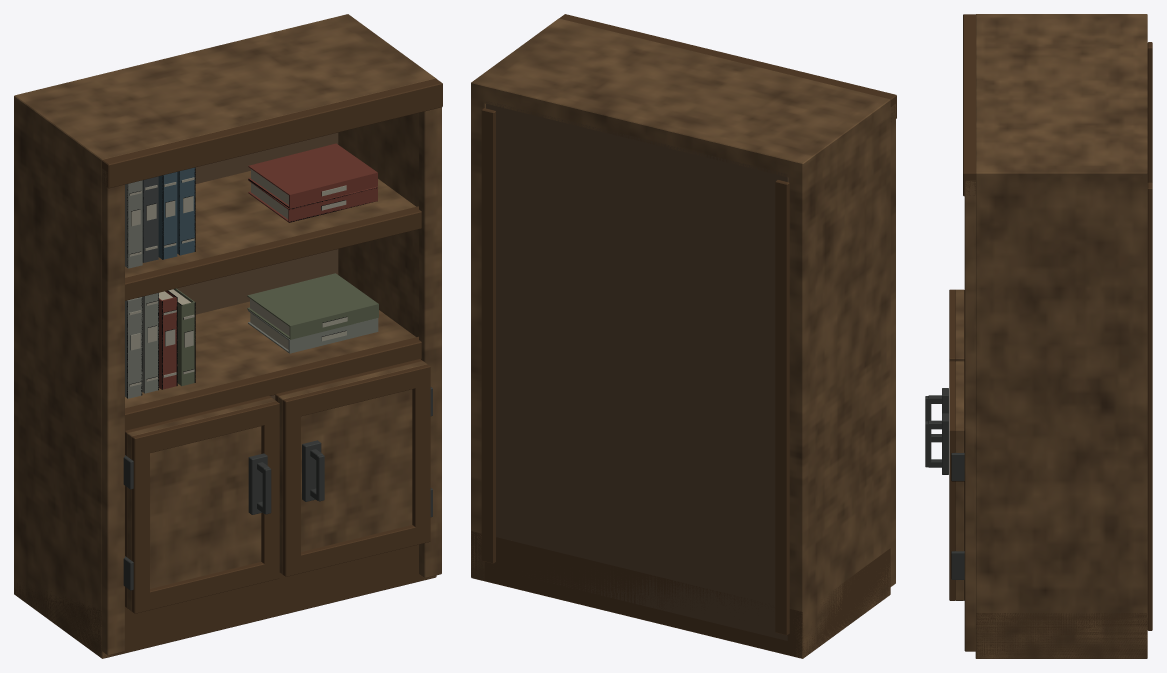
File: Cabinet_Short.glb
3 views of the same model, side by side, from view 1: azimuth 30°, elevation 25°; view 2: azimuth 150°, elevation 25°; view 3: azimuth 270°, elevation 25° (orthographic). The views are drawn at different scales.
Visible parts, largest first — view 1: Cabinet_Short_Body.001, Cabinet_Short_Door_Left.001, Cabinet_Short_Door_Right.001, Cabinet_Short_Book_33.001, Cabinet_Short_Book_39.001, Cabinet_Short_Book_38.001, Cabinet_Short_Book_32.001, Cabinet_Short_Book_30.001, Cabinet_Short_Book_28.001, Cabinet_Short_Book_31.001, Cabinet_Short_Book_36.001, Cabinet_Short_Book_29.001 (+3 smaller); view 2: Cabinet_Short_Body.001; view 3: Cabinet_Short_Body.001, Cabinet_Short_Door_Right.001, Cabinet_Short_Door_Left.001.
Part boxes in pixels (x1,y1,x2,y2): Cabinet_Short_Body.001: (14,14,442,658); Cabinet_Short_Door_Left.001: (123,396,279,613); Cabinet_Short_Door_Right.001: (275,359,432,576); Cabinet_Short_Book_33.001: (247,273,378,339); Cabinet_Short_Book_39.001: (248,143,377,208); Cabinet_Short_Book_38.001: (248,180,377,222); Cabinet_Short_Book_32.001: (248,310,378,353); Cabinet_Short_Book_30.001: (159,290,177,389); Cabinet_Short_Book_28.001: (125,297,142,398); Cabinet_Short_Book_31.001: (168,288,195,386); Cabinet_Short_Book_36.001: (158,172,177,259); Cabinet_Short_Book_29.001: (142,293,158,393); Cabinet_Short_Body.001: (471,14,896,658); Cabinet_Short_Body.001: (963,14,1152,658); Cabinet_Short_Door_Right.001: (925,361,964,600); Cabinet_Short_Door_Left.001: (925,289,964,442).
Bounding box in the file's own units: 0.94 × 1.34 × 0.568.
Materials: 11 (11 with a texture image).
